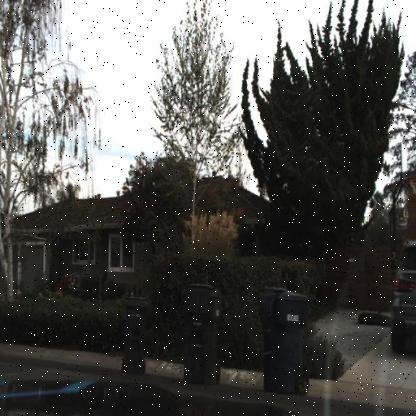car: (390, 238, 415, 356)
